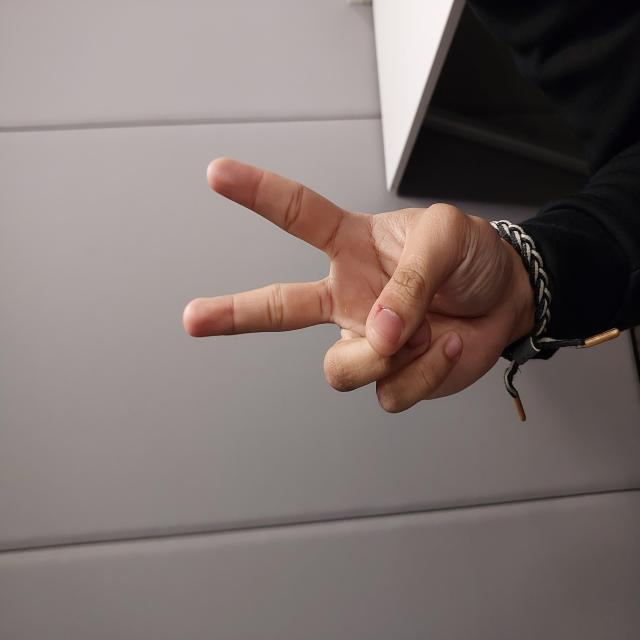V: (224, 182, 483, 516)
